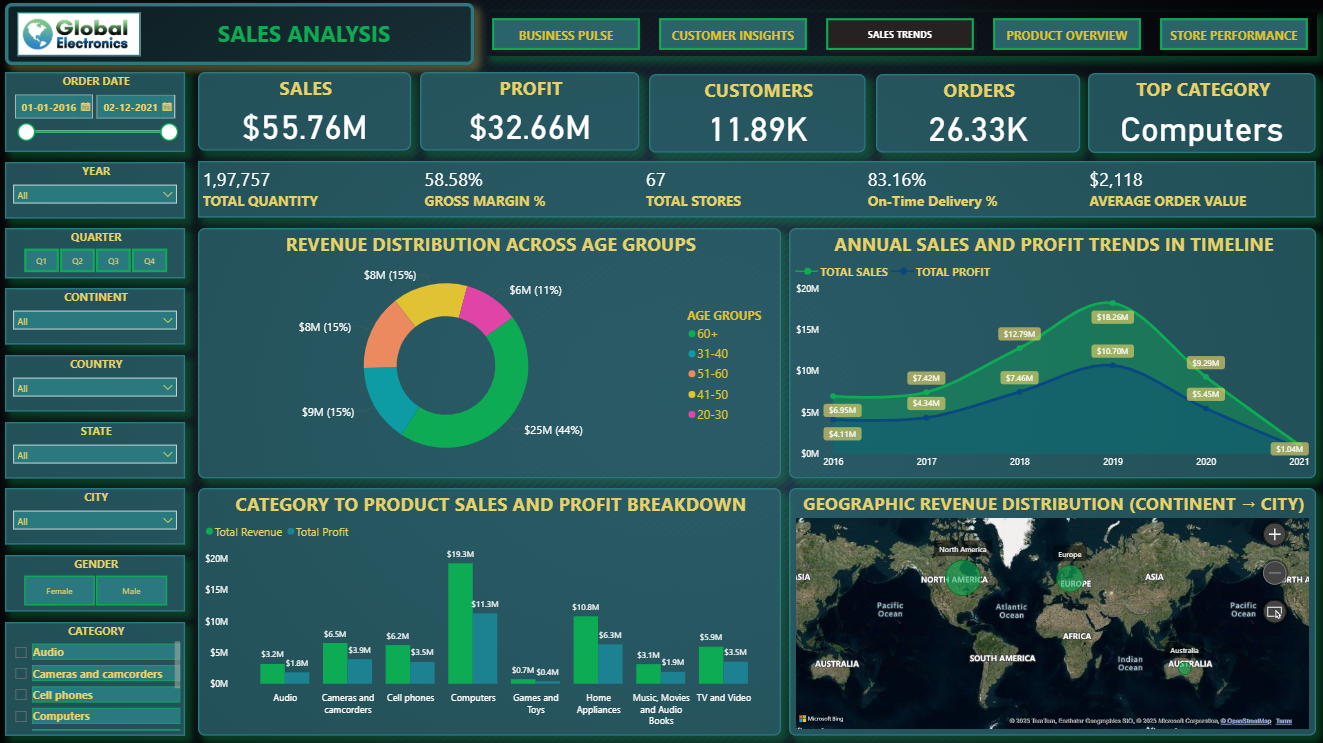

This screenshot's page, from the dashboard's own definition file:
{"tool":"powerbi","page":{"name":"SALES TRENDS","canvas":[1920,1080],"ordinal":2},"visuals":[{"type":"shape","title":"title text box","box":[10.7,6.7,679.7,90],"z":0},{"type":"textbox","box":[205.5,22.8,475.5,59.1],"z":1000},{"type":"image","title":"Global electronics icon","box":[26.9,20.1,178.7,64.5],"z":2000},{"type":"slicer","title":"COUNTRY","fields":{"Values":["customers.Country"]},"box":[10.7,517,260.6,81.9],"z":3000},{"type":"slicer","title":"CONTINENT","fields":{"Values":["customers.Continent"]},"box":[10.7,420,260.6,81.9],"z":4000},{"type":"slicer","title":"STATE","fields":{"Values":["customers.State"]},"box":[10.7,614,260.6,81.9],"z":5000},{"type":"slicer","title":"CITY","fields":{"Values":["customers.City"]},"box":[10.7,710,260.6,81.9],"z":6000},{"type":"slicer","title":"GENDER","fields":{"Values":["customers.Gender"]},"box":[10.7,807,260.6,81.9],"z":7000},{"type":"slicer","title":"ORDER DATE","fields":{"Values":["Sales.Order Date"]},"box":[10.7,107.5,260.6,115.5],"z":8000},{"type":"slicer","title":"CATEGORY","fields":{"Values":["Products.Category"]},"box":[10.7,904,260.6,165.2],"z":9000},{"type":"slicer","title":"QUARTER","fields":{"Values":["Dim_Date.Quarter"]},"box":[10.7,333,260.6,72.5],"z":10000},{"type":"slicer","title":"YEAR","fields":{"Values":["Dim_Date.Year"]},"box":[10.7,237,260.6,81.9],"z":11000},{"type":"card","title":"SALES","fields":{"Values":["Financial Analysis.Total Revenue"]},"box":[290.1,107.5,309,114.2],"z":12000},{"type":"card","title":"CUSTOMERS","fields":{"Values":["Customer Analysis.Total Customers"]},"box":[943,110.1,314.3,114.2],"z":13000},{"type":"card","title":"ORDERS","fields":{"Values":["Financial Analysis.Total Orders"]},"box":[1272.1,110.1,295.5,114.2],"z":14000},{"type":"card","title":"PROFIT","fields":{"Values":["Financial Analysis.Total Profit"]},"box":[611.2,107.5,318.4,114.2],"z":15000},{"type":"card","title":"TOP CATEGORY","fields":{"Values":["Customer Analysis.Top Category"]},"box":[1579.7,108.8,330.4,115.5],"z":16000},{"type":"donutChart","title":"REVENUE DISTRIBUTION ACROSS AGE GROUPS","fields":{"Y":["Financial Analysis.Total Revenue"],"Category":["customers.Customer Age Group"]},"box":[290.1,333.1,844.9,362.7],"z":17000},{"type":"map","title":"GEOGRAPHIC REVENUE DISTRIBUTION (CONTINENT → CITY)","fields":{"Category":["customers.Continent","customers.Country","customers.State","customers.City"],"Size":["Financial Analysis.Total Revenue"]},"box":[1145.8,710.6,764.3,358.7],"z":18000},{"type":"areaChart","title":"ANNUAL SALES AND PROFIT TRENDS IN TIMELINE","fields":{"Category":["Dim_Date.Year","Dim_Date.Quarter","Dim_Date.Month Name","Dim_Date.Day"],"Y":["Financial Analysis.Total Revenue","Financial Analysis.Total Profit"]},"box":[1145.8,333.1,764.3,362.7],"z":19000},{"type":"multiRowCard","fields":{"Values":["Product Analysis.Total Quantity","Financial Analysis.Gross Margin %","Store Analysis.Total Stores","Product Analysis.On-Time Delivery %","Financial Analysis.Average Order Value"]},"box":[290.1,236.4,1620,81.9],"z":20000},{"type":"clusteredColumnChart","title":"CATEGORY TO PRODUCT SALES AND PROFIT BREAKDOWN","fields":{"Y":["Financial Analysis.Total Revenue","Financial Analysis.Total Profit"],"Category":["Products.Category","Products.Subcategory","Products.Product Name"]},"box":[290.1,710.6,844.9,358.7],"z":21000},{"type":"pageNavigator","box":[706.6,20.1,1203.6,64.5],"z":21001}]}

Visuals, with their boxes in screenshot pixels (x1, y1, x2, y2), scaled from the page's 1920x1080 canvas onto the 1323x743 screenshot:
"title text box" shape: box=[7, 5, 476, 67]
textbox: box=[142, 16, 469, 56]
"Global electronics icon" image: box=[19, 14, 142, 58]
"COUNTRY" slicer: box=[7, 356, 187, 412]
"CONTINENT" slicer: box=[7, 289, 187, 345]
"STATE" slicer: box=[7, 422, 187, 479]
"CITY" slicer: box=[7, 488, 187, 545]
"GENDER" slicer: box=[7, 555, 187, 612]
"ORDER DATE" slicer: box=[7, 74, 187, 153]
"CATEGORY" slicer: box=[7, 622, 187, 736]
"QUARTER" slicer: box=[7, 229, 187, 279]
"YEAR" slicer: box=[7, 163, 187, 219]
"SALES" card: box=[200, 74, 413, 153]
"CUSTOMERS" card: box=[650, 76, 866, 154]
"ORDERS" card: box=[877, 76, 1080, 154]
"PROFIT" card: box=[421, 74, 641, 153]
"TOP CATEGORY" card: box=[1089, 75, 1316, 154]
"REVENUE DISTRIBUTION ACROSS AGE GROUPS" donutChart: box=[200, 229, 782, 479]
"GEOGRAPHIC REVENUE DISTRIBUTION (CONTINENT → CITY)" map: box=[790, 489, 1316, 736]
"ANNUAL SALES AND PROFIT TRENDS IN TIMELINE" areaChart: box=[790, 229, 1316, 479]
multiRowCard - Product Analysis.Total Quantity x Financial Analysis.Gross Margin %: box=[200, 163, 1316, 219]
"CATEGORY TO PRODUCT SALES AND PROFIT BREAKDOWN" clusteredColumnChart: box=[200, 489, 782, 736]
pageNavigator: box=[487, 14, 1316, 58]
